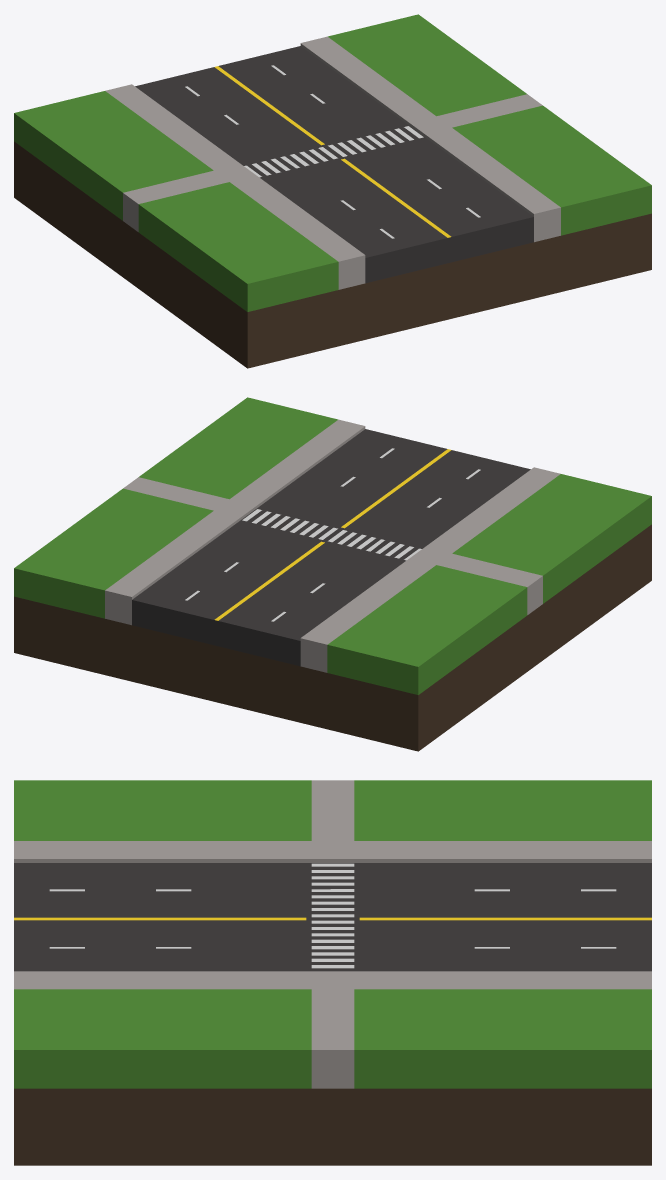
The model's file is tiles_tile-mainroad-straight-crosswalk.fbx.
3 views of the same model, one above another, from view 1: azimuth 30°, elevation 25°; view 2: azimuth 150°, elevation 25°; view 3: azimuth 270°, elevation 25° (orthographic). The views are drawn at different scales.
Visible parts, largest first — view 1: tiles_tile_mainroad_straight_crosswalk; view 2: tiles_tile_mainroad_straight_crosswalk; view 3: tiles_tile_mainroad_straight_crosswalk.
Boxes of the visible parts, x1,y1,x2,y2 form: tiles_tile_mainroad_straight_crosswalk: [14, 14, 651, 368]; tiles_tile_mainroad_straight_crosswalk: [14, 397, 651, 751]; tiles_tile_mainroad_straight_crosswalk: [14, 780, 651, 1165].
Bounding box in the file's own units: 200 × 40 × 200.
